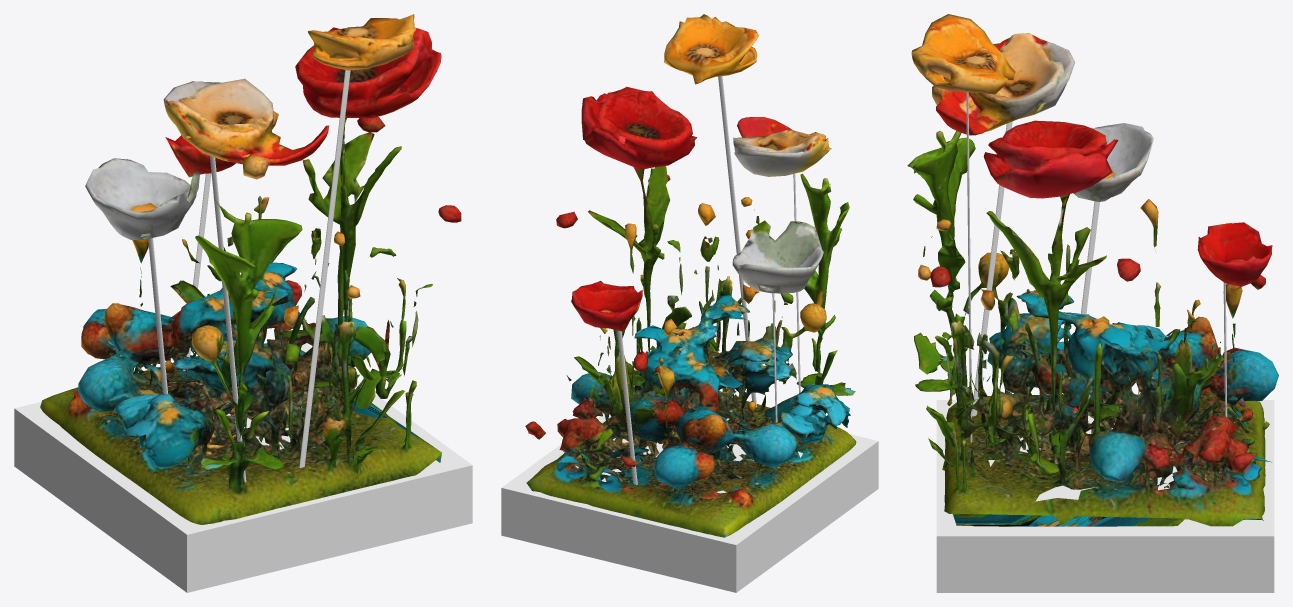
Rendered from wildflowers.glb.
3 renders of one model, left to right at view 1: azimuth 30°, elevation 25°; view 2: azimuth 150°, elevation 25°; view 3: azimuth 270°, elevation 25°, orthographic. The views are drawn at different scales.
Visible parts, largest first — view 1: wildflowers; view 2: wildflowers; view 3: wildflowers.
Part boxes in pixels (left/top/right/bottom): wildflowers: left=14, top=14, right=472, bottom=592; wildflowers: left=501, top=14, right=878, bottom=592; wildflowers: left=907, top=14, right=1278, bottom=592.
Bounding box in the file's own units: 0.2987 × 0.5015 × 0.3189.
Materials: 5 (1 with a texture image).
